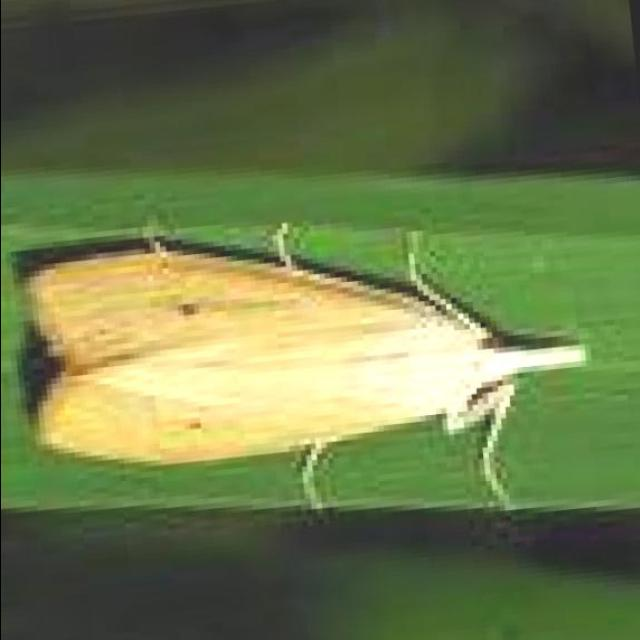stem borer: (23, 223, 585, 508)
